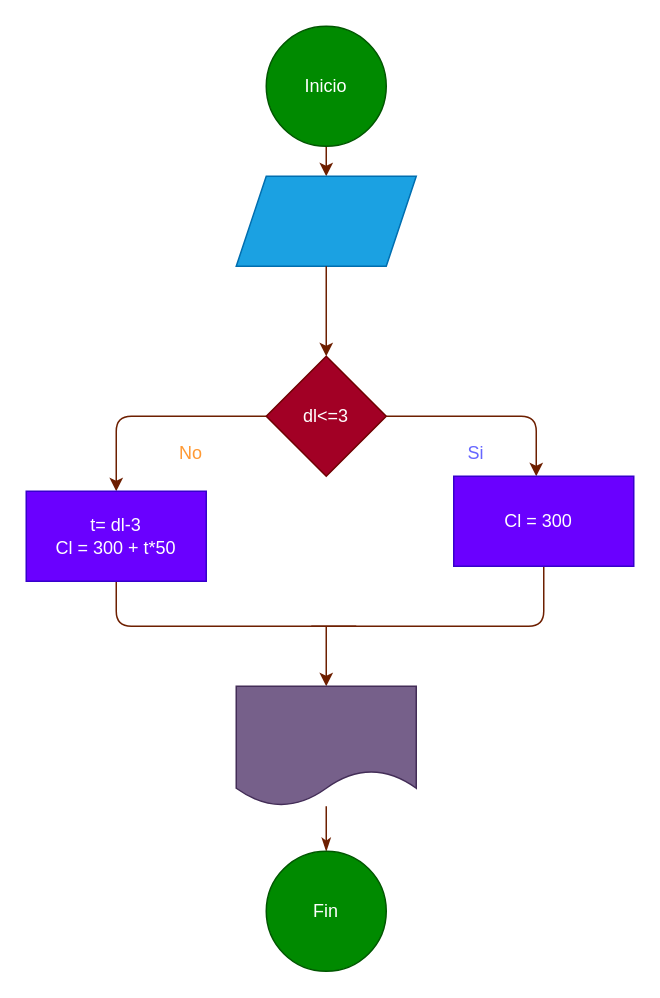
Image size: 660x998. Some labels were removed from this diagram. The centre of each missing label's shape, as x and y in pixels:
Cl: pixel 325 745
dl: pixel 325 220
